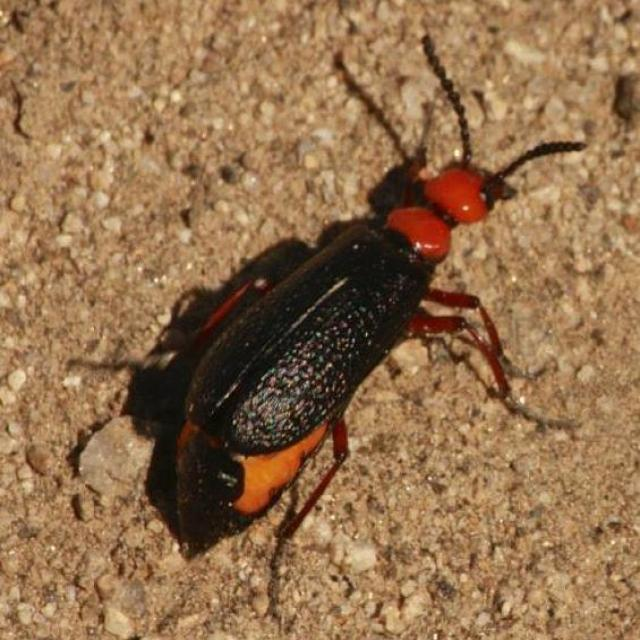BlisterBeetle-Adult-: (153, 31, 583, 547)
